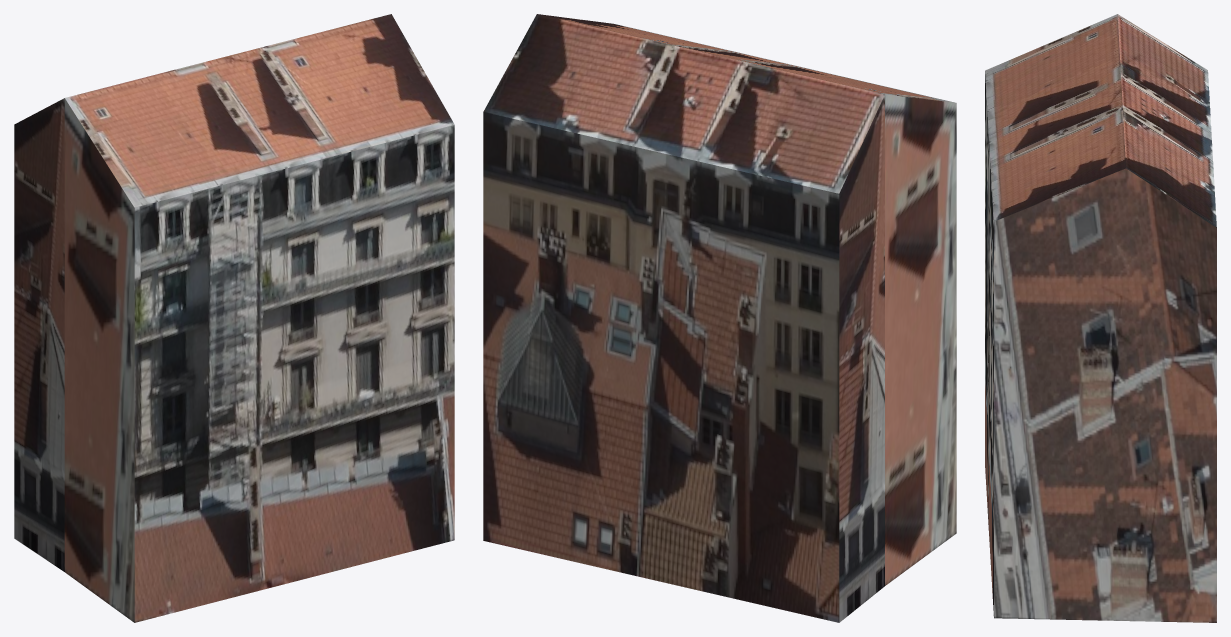
3 views of the same model, side by side, from view 1: azimuth 30°, elevation 25°; view 2: azimuth 150°, elevation 25°; view 3: azimuth 270°, elevation 25° (orthographic). The views are drawn at different scales.
Parts seen in each view (by area): view 1: Z_UP; view 2: Z_UP; view 3: Z_UP.
Part boxes in pixels (x1,y1,x2,y2): Z_UP: (14,14,454,622); Z_UP: (483,14,956,622); Z_UP: (985,14,1216,622).
Size of the model in its own units: 19.66 by 26.31 by 12.21.
Materials: 2 (1 with a texture image).
